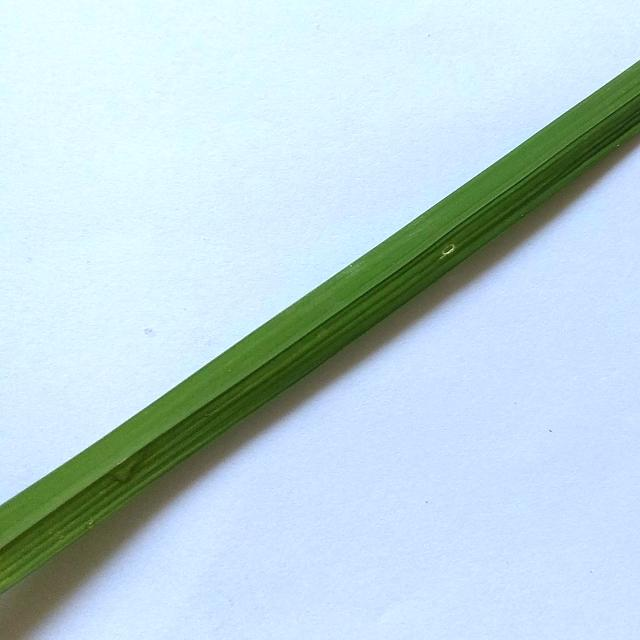Rice_Healthy: (0, 62, 640, 592)
